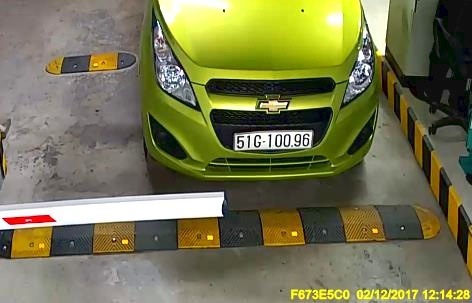plate: (232, 128, 314, 149)
